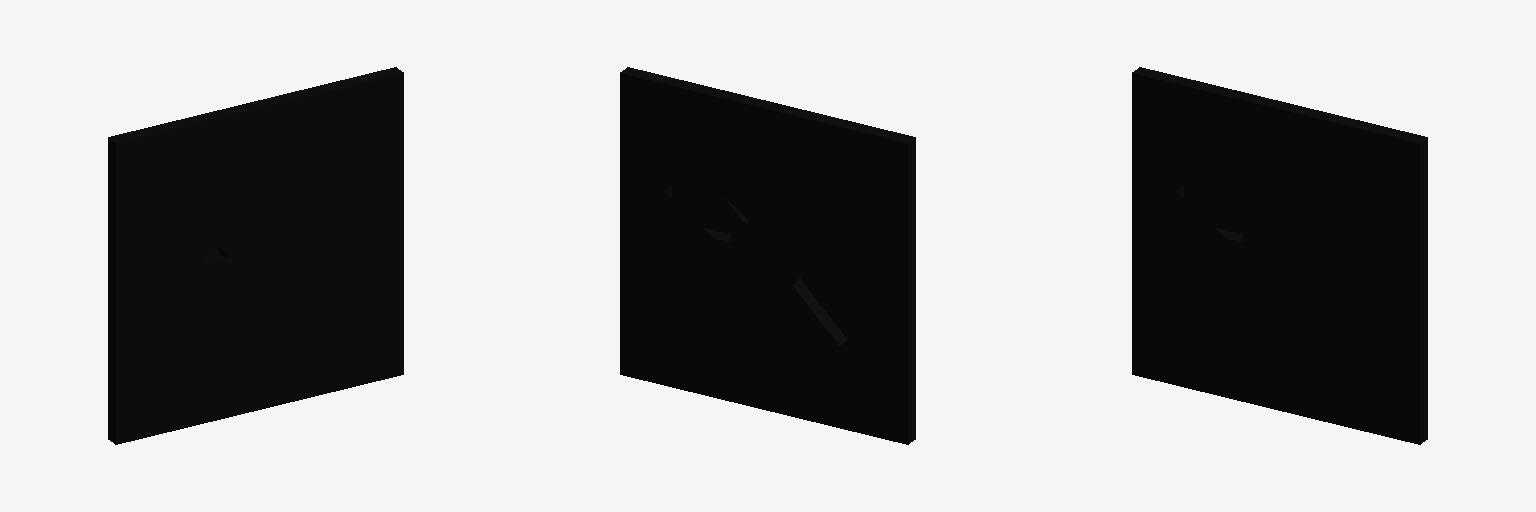
The model's file is SciFiWallTile.obj.
3 renders of one model, left to right at view 1: azimuth 30°, elevation 25°; view 2: azimuth 150°, elevation 25°; view 3: azimuth 330°, elevation 25°, orthographic.
Visible parts, largest first — view 1: MainFrame, CenterOct, Arm4; view 2: MainFrame, CenterOct, Arm2, Arm3, Arm4; view 3: MainFrame, CenterOct, Arm4, Arm3.
Part boxes in pixels (bbox=[...]): MainFrame: bbox=[108, 67, 403, 444]; CenterOct: bbox=[219, 221, 292, 296]; Arm4: bbox=[184, 195, 334, 322]; MainFrame: bbox=[620, 67, 915, 444]; CenterOct: bbox=[731, 221, 802, 296]; Arm2: bbox=[689, 168, 846, 354]; Arm3: bbox=[663, 226, 864, 291]; Arm4: bbox=[688, 196, 839, 321]; MainFrame: bbox=[1132, 67, 1427, 444]; CenterOct: bbox=[1243, 221, 1308, 296]; Arm4: bbox=[1199, 164, 1352, 354]; Arm3: bbox=[1175, 226, 1374, 289].
Bounding box in the file's own units: 4 × 4 × 0.202.